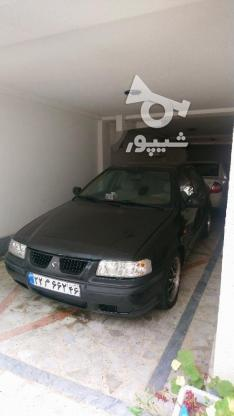car: (27, 272, 81, 300)
